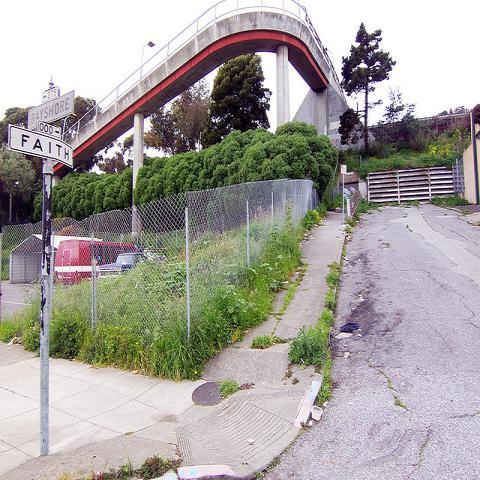bus: (54, 242, 136, 286)
car: (97, 253, 147, 279)
truck: (54, 240, 136, 286), (114, 252, 143, 270)
